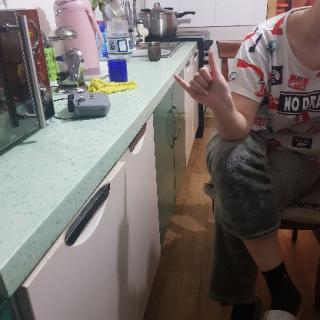YA: (170, 48, 233, 113)
